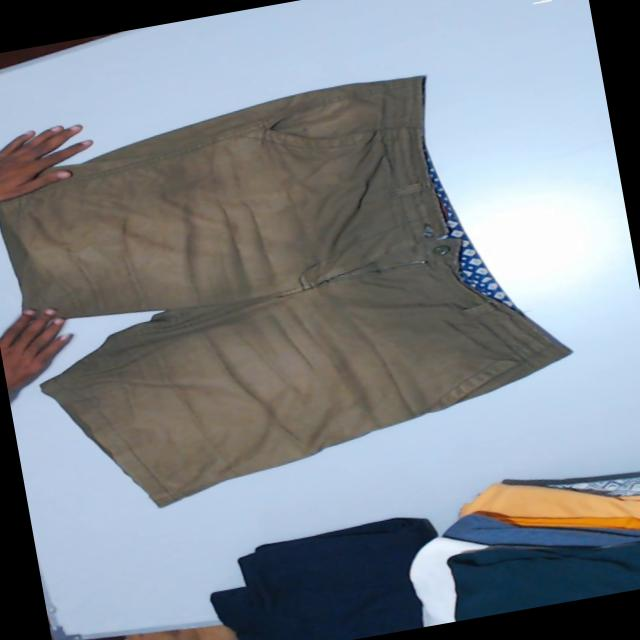new-garment: (0, 75, 569, 505)
